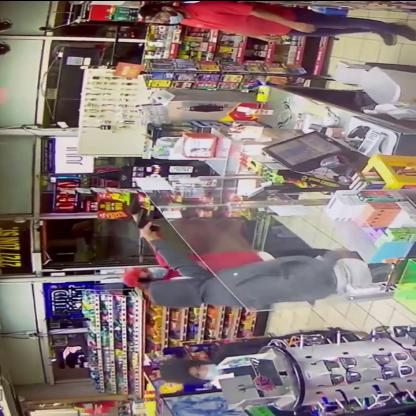Pistol: (130, 208, 166, 231), (123, 194, 151, 214)
